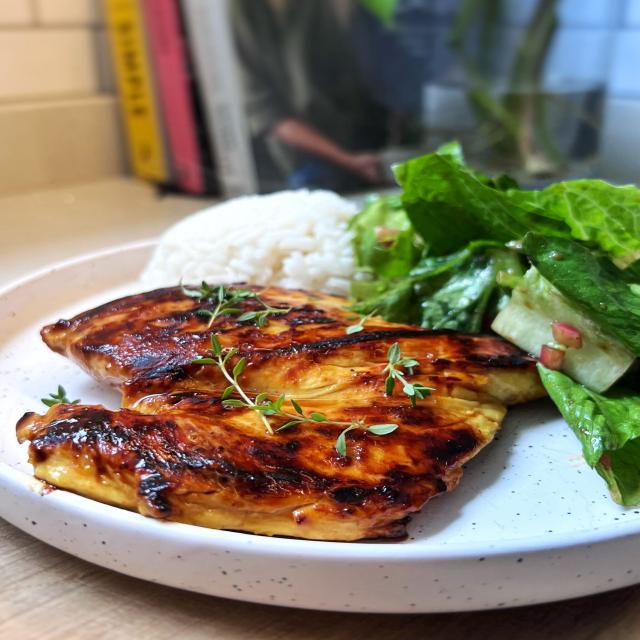arroz: (121, 184, 394, 308)
carne de cerdo: (18, 275, 534, 552)
